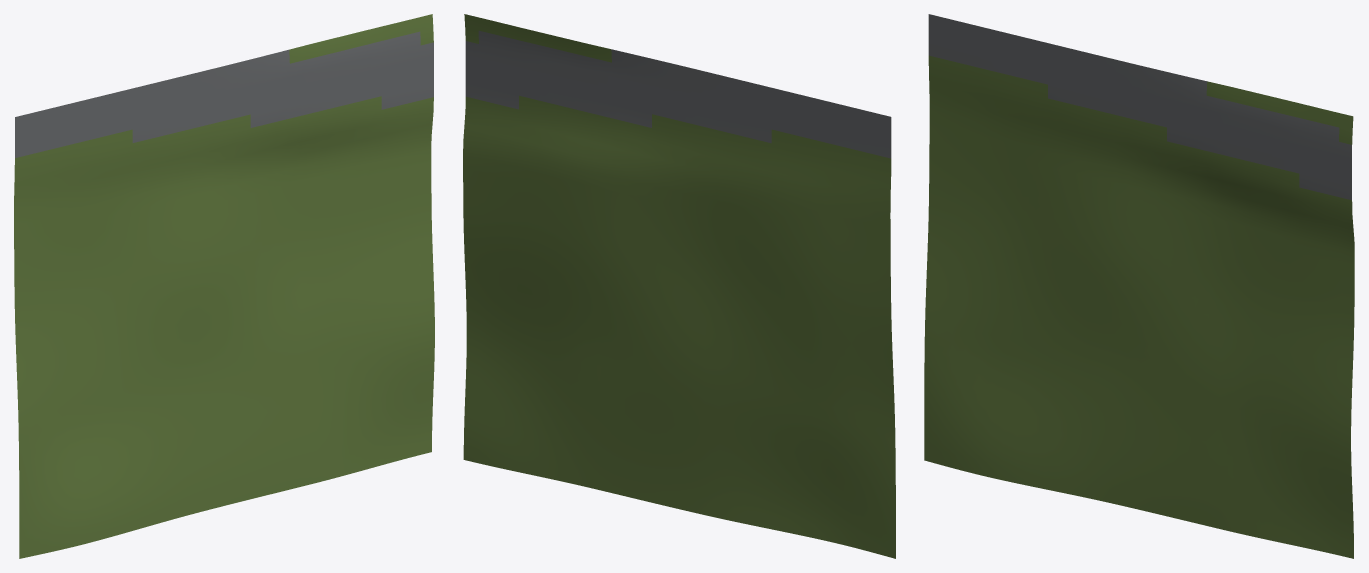
The model's file is island_terrain_25_06.obj.
3 renders of one model, left to right at view 1: azimuth 30°, elevation 25°; view 2: azimuth 150°, elevation 25°; view 3: azimuth 330°, elevation 25°, orthographic.
Visible parts, largest first — view 1: island_terrain_25_06; view 2: island_terrain_25_06; view 3: island_terrain_25_06.
Part boxes in pixels (x1,y1,x2,y2): island_terrain_25_06: (14,14,434,558); island_terrain_25_06: (463,14,895,558); island_terrain_25_06: (924,14,1354,558).
Bounding box in the file's own units: 256 × 256 × 9.86.
